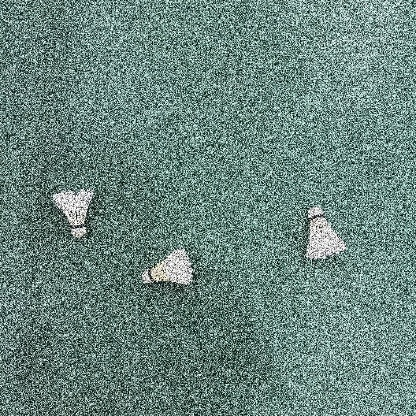ball_single: (306, 206, 347, 260), (52, 188, 93, 237), (142, 248, 194, 284)
